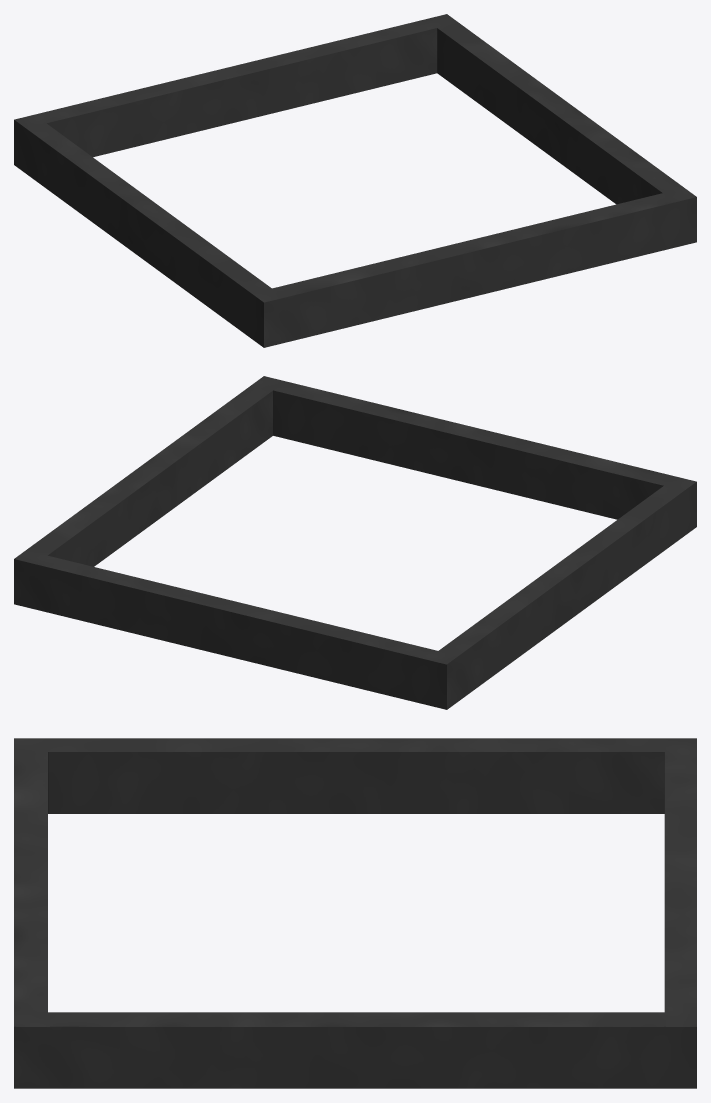
File: frame.dae
3 views of the same model, one above another, from view 1: azimuth 30°, elevation 25°; view 2: azimuth 150°, elevation 25°; view 3: azimuth 270°, elevation 25° (orthographic). The views are drawn at different scales.
Parts seen in each view (by area): view 1: Cube; view 2: Cube; view 3: Cube.
Boxes of the visible parts, bbox=[...] form: Cube: bbox=[14, 14, 696, 347]; Cube: bbox=[14, 376, 696, 709]; Cube: bbox=[14, 738, 696, 1088].
Bounding box in the file's own units: 2 × 2 × 0.2.
1 material, 1 textured.
